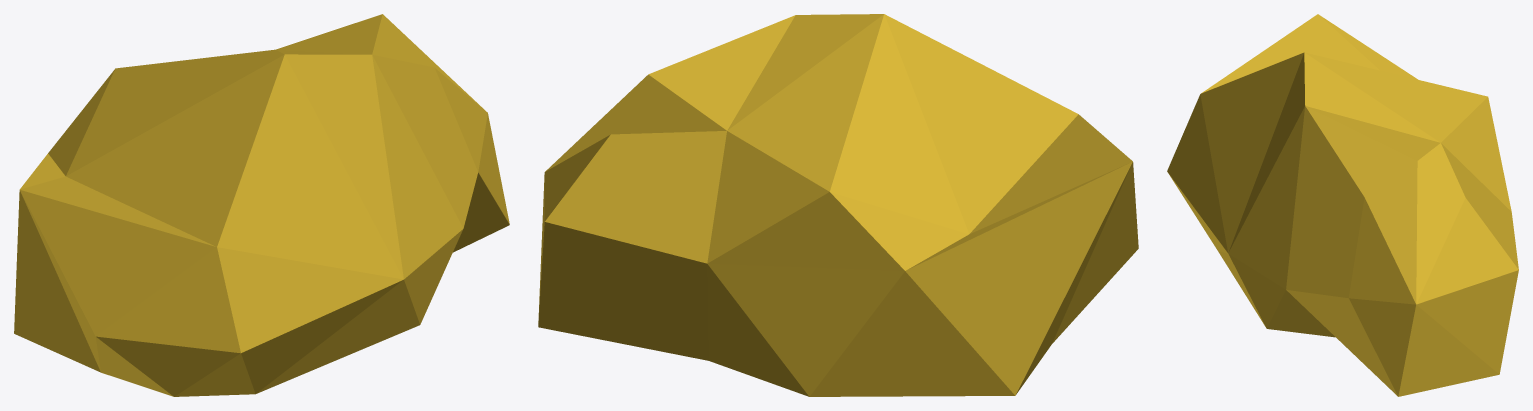
File: co_Bush04_B.fbx
3 views of the same model, side by side, from view 1: azimuth 30°, elevation 25°; view 2: azimuth 150°, elevation 25°; view 3: azimuth 270°, elevation 25° (orthographic). The views are drawn at different scales.
Parts seen in each view (by area): view 1: Bush04_B; view 2: Bush04_B; view 3: Bush04_B.
Boxes of the visible parts, x1,y1,x2,y2 form: Bush04_B: (14, 14, 509, 396); Bush04_B: (538, 14, 1138, 396); Bush04_B: (1167, 14, 1518, 396).
Size of the model in its own units: 7.07 by 3.52 by 4.86.
